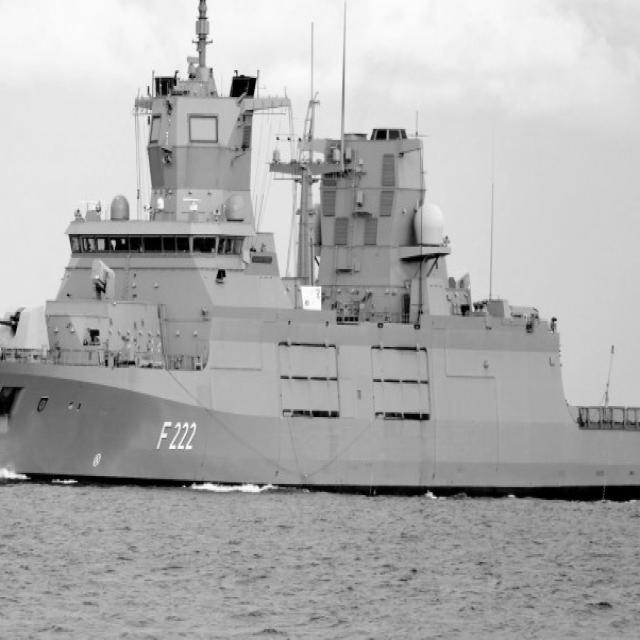Fragata: (1, 70, 640, 504)
